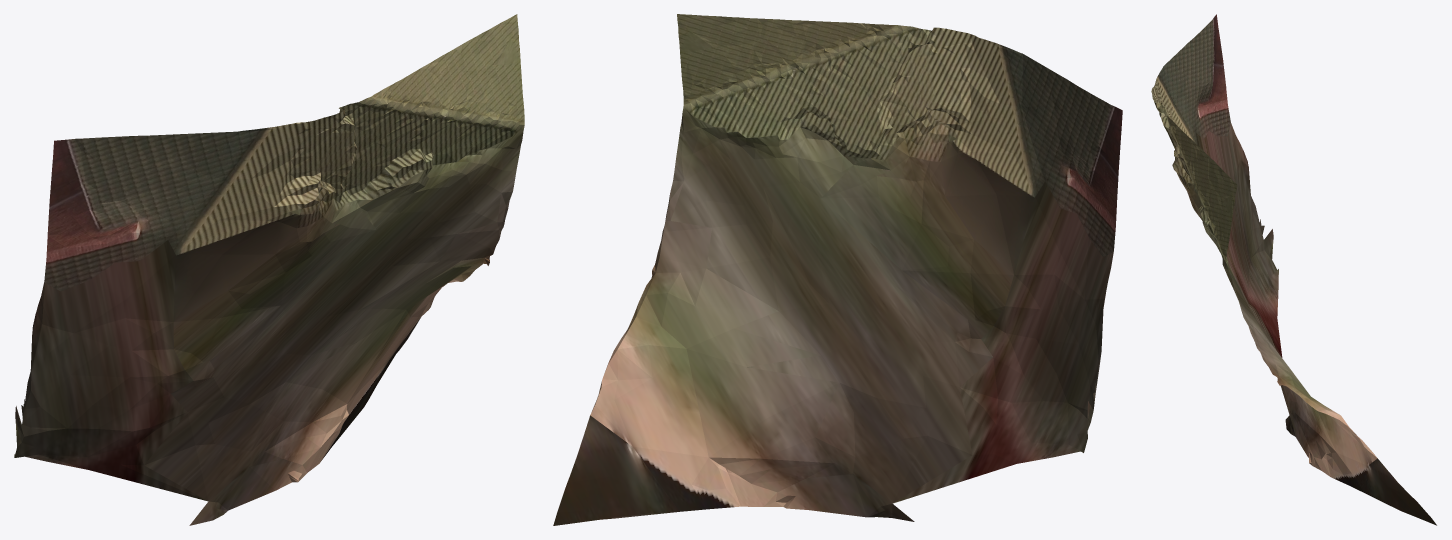
File: tile_5_0.obj
The picture shows the model from 3 angles, left to right: view 1: azimuth 30°, elevation 25°; view 2: azimuth 150°, elevation 25°; view 3: azimuth 270°, elevation 25°; orthographic projection. The views are drawn at different scales.
Visible parts, largest first — view 1: texture_0; view 2: texture_0; view 3: texture_0.
Boxes of the visible parts, x1,y1,x2,y2 form: texture_0: (14,14,524,525); texture_0: (553,14,1122,525); texture_0: (1151,14,1436,525).
Bounding box in the file's own units: 13.88 × 12.92 × 9.82.
1 material, 1 textured.
